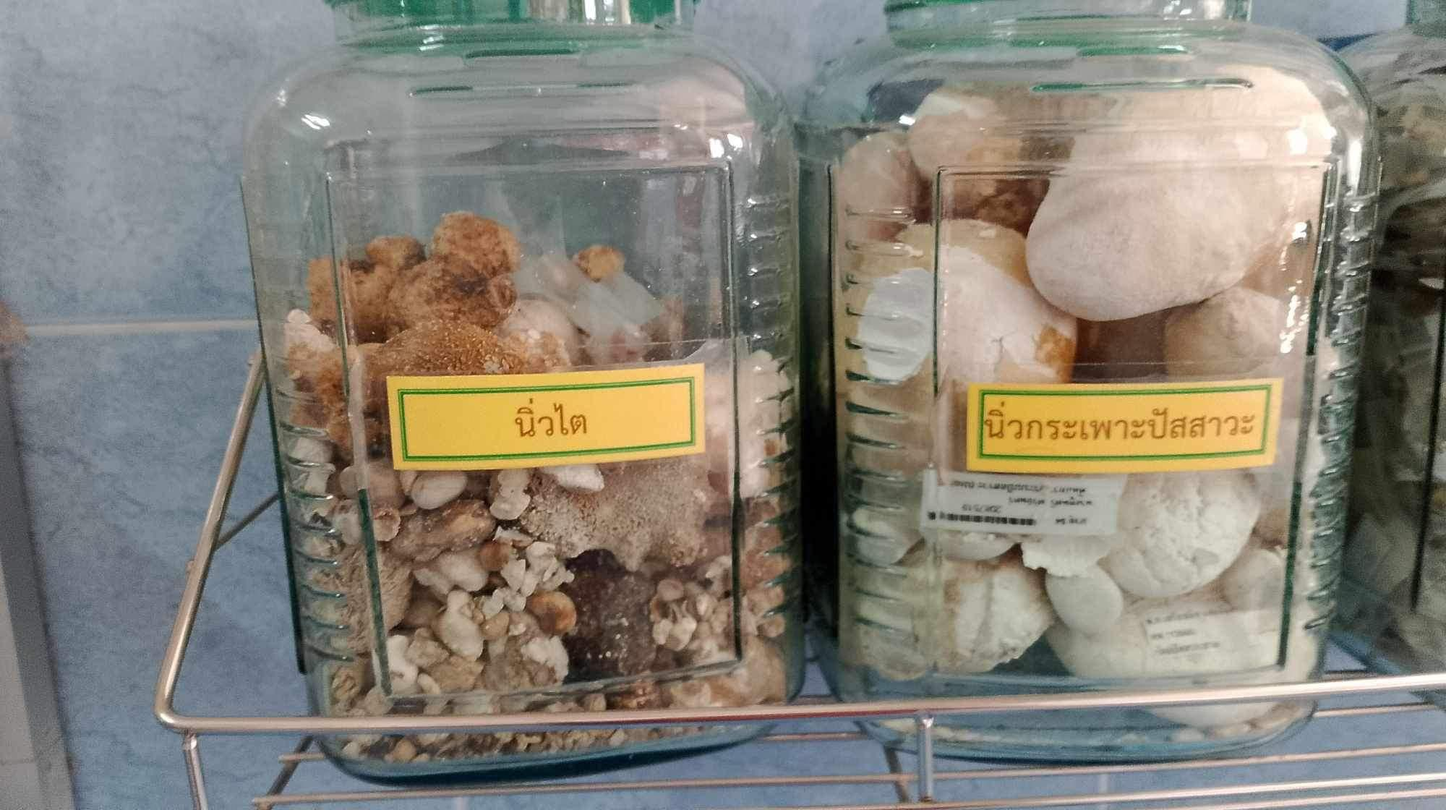General: (155, 4, 1432, 803)
Infectious: (816, 17, 1379, 744)
Pathological: (237, 23, 806, 767)
Sharps: (315, 166, 397, 702)
